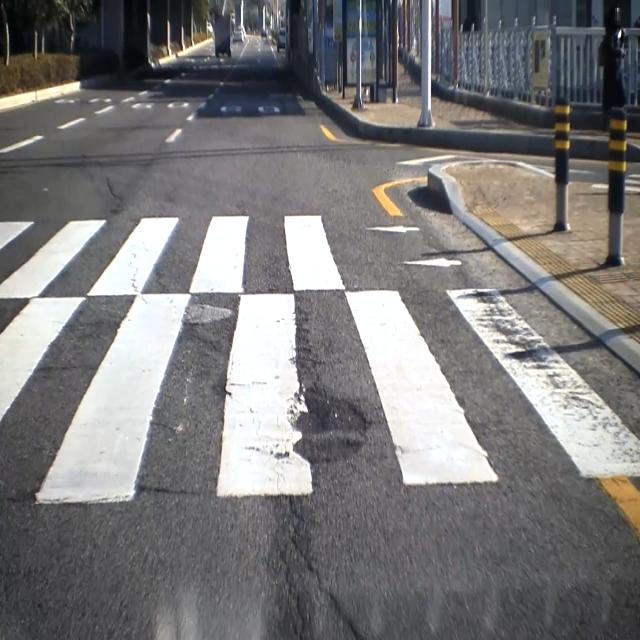Pothole: (288, 384, 370, 478)
